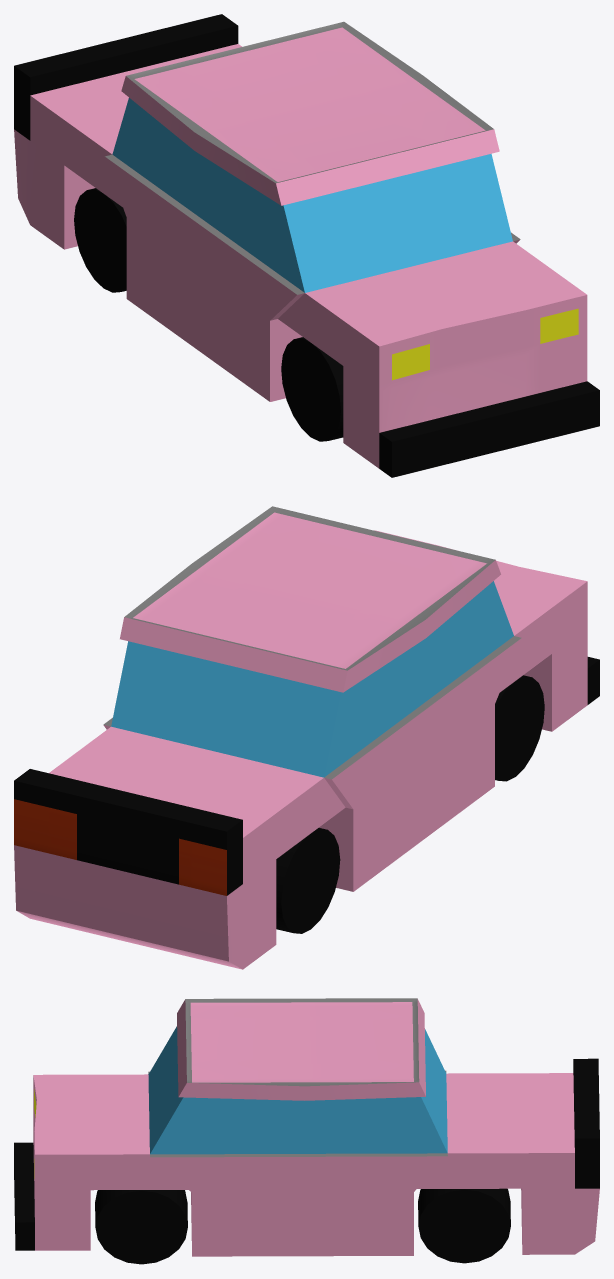
The model's file is carro.obj.
3 renders of one model, top to bottom at view 1: azimuth 30°, elevation 25°; view 2: azimuth 150°, elevation 25°; view 3: azimuth 270°, elevation 25°, orthographic. The views are drawn at different scales.
Visible parts, largest first — view 1: polySurface1879; view 2: polySurface1879; view 3: polySurface1879.
Boxes of the visible parts, left/top/right/bottom form: polySurface1879: left=14, top=14, right=599, bottom=477; polySurface1879: left=14, top=506, right=599, bottom=969; polySurface1879: left=14, top=998, right=599, bottom=1264.
Size of the model in its own units: 110 by 108 by 310.
6 materials, 5 textured.
